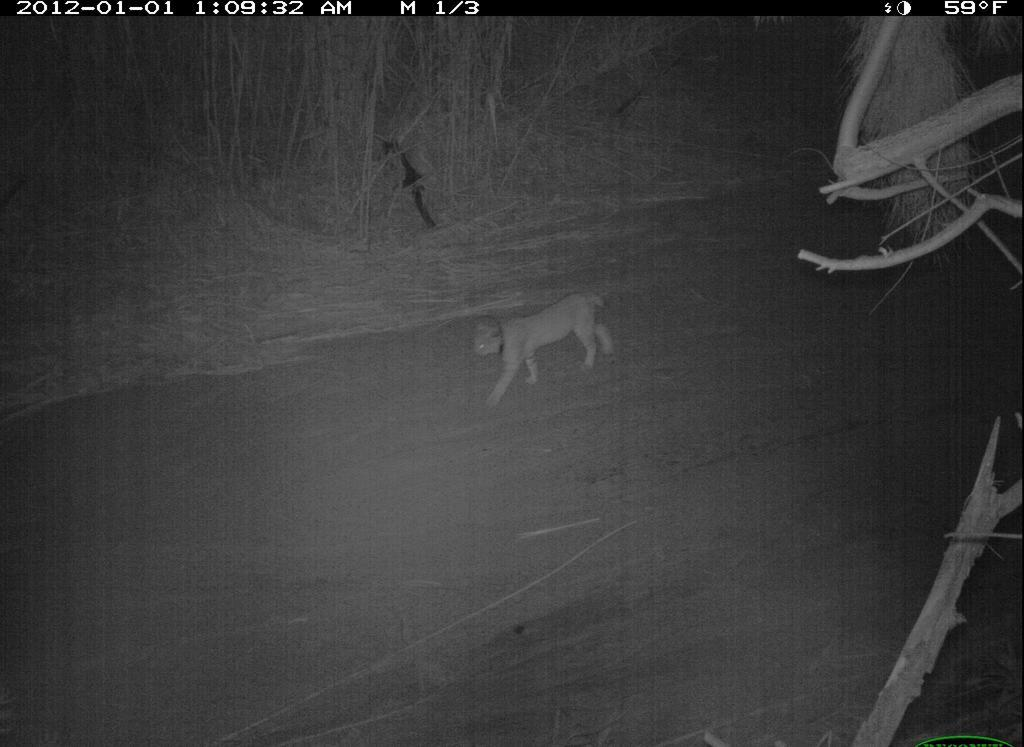bobcat: (461, 276, 628, 411)
